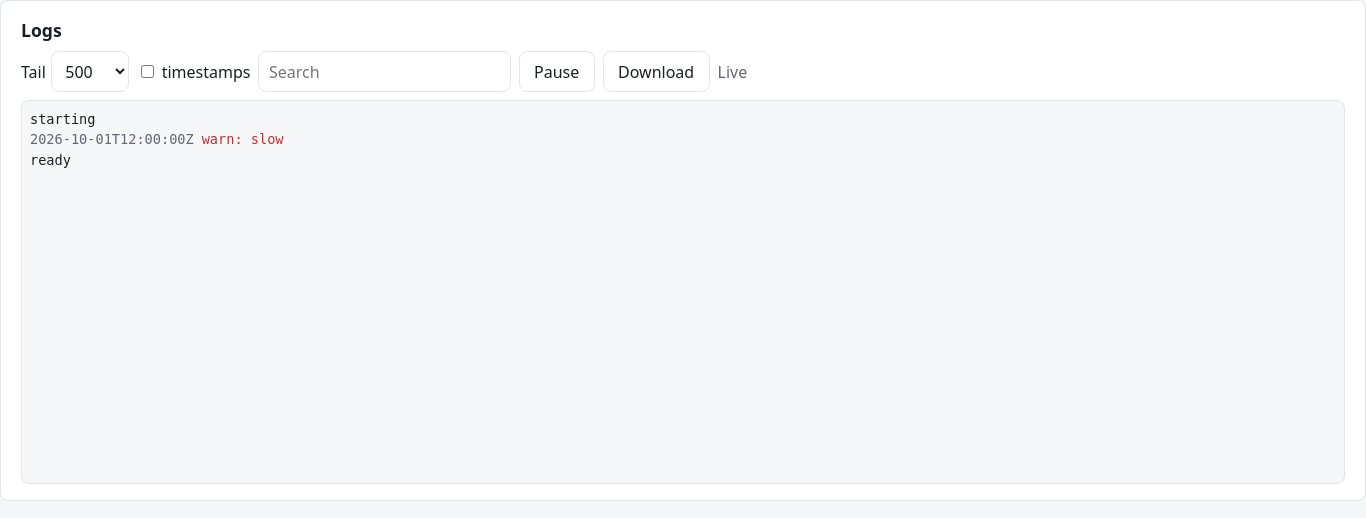
Test case: ContainerLogs › shows lines, marks stderr and filters by search
The width and height of the screenshot is (1366, 518).
Type "WARN" into the search field with placeholder "Search". click: (384, 72)
box: [258, 51, 511, 92]
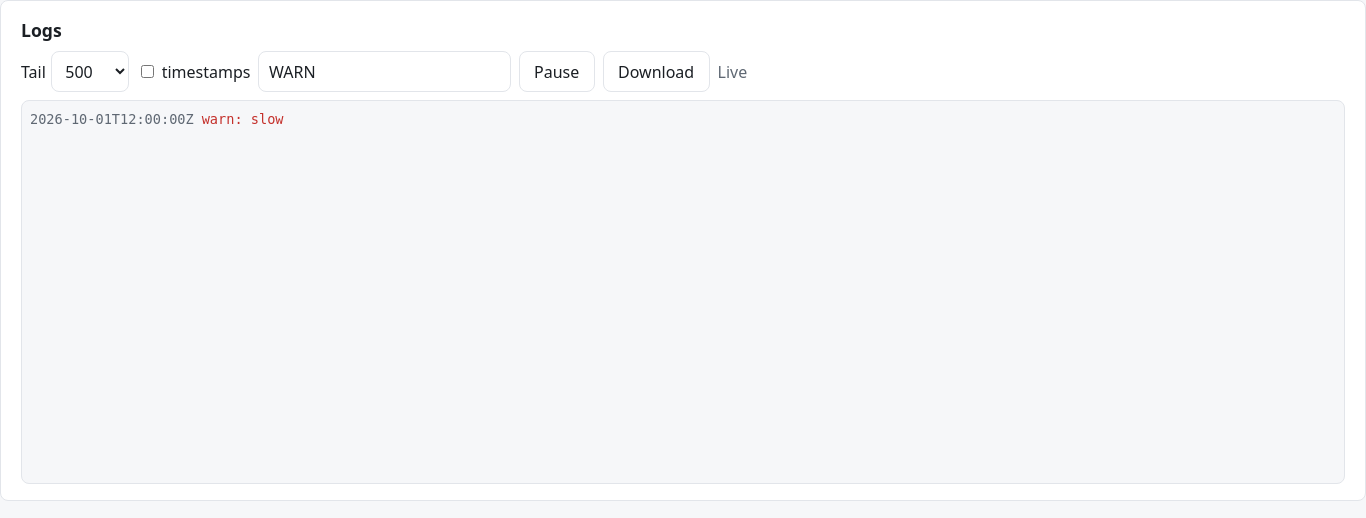
Replace the text in the search field named "Search logs" with "nothing". click: (384, 72)
box: [258, 51, 511, 92]
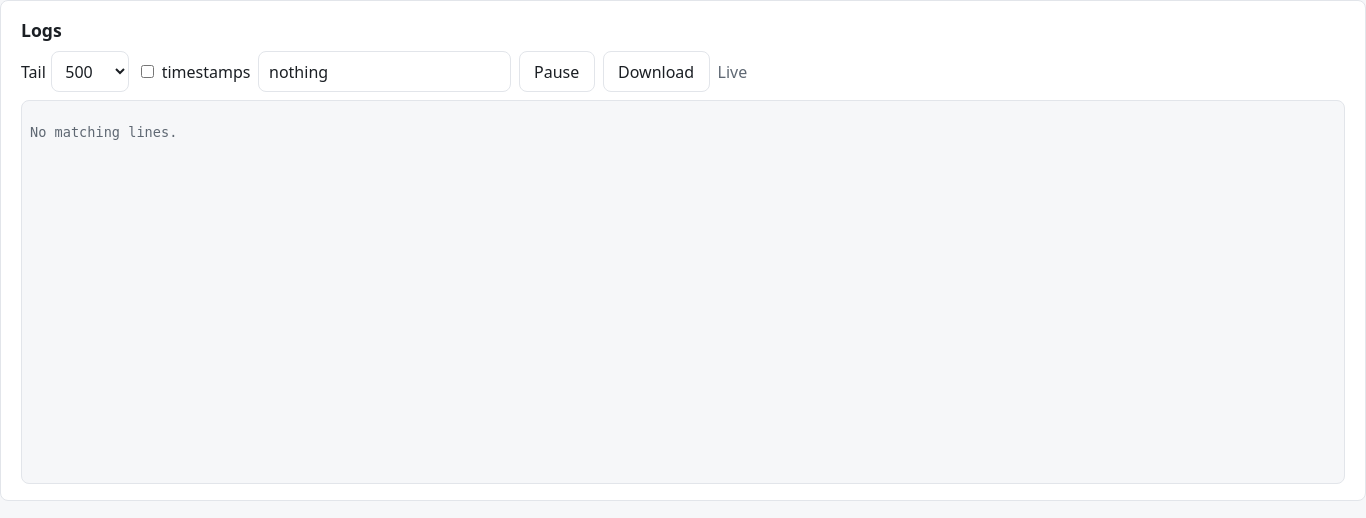
Expected: the text "No matching lines." is shown, [30, 124, 177, 140]
